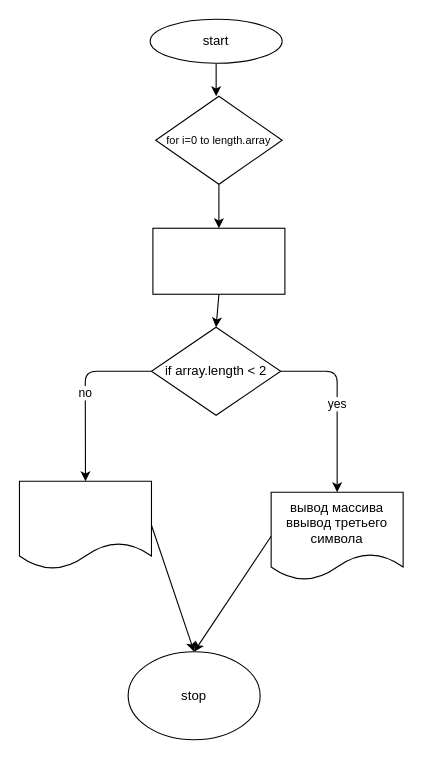
Image size: 422x759. Some labels were removed from this diagram. Here are the shapes that lost their labels. From the top down, the box of each, then its label:
(152, 227, 285, 294): Random array[i]
(18, 480, 151, 569): нет
